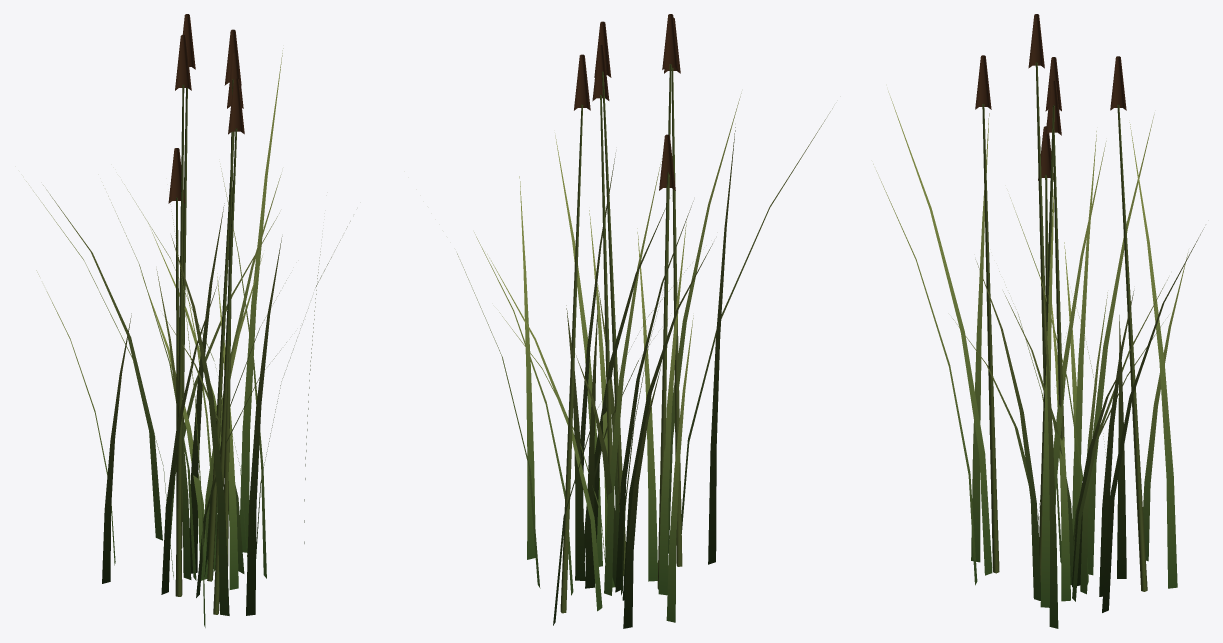
The model's file is reeds.glb.
The picture shows the model from 3 angles, left to right: view 1: azimuth 30°, elevation 25°; view 2: azimuth 150°, elevation 25°; view 3: azimuth 270°, elevation 25°; orthographic projection. The views are drawn at different scales.
Parts seen in each view (by area): view 1: reeds; view 2: reeds; view 3: reeds.
Part boxes in pixels (x1=…): reeds: x1=26, y1=14, x2=350, y2=627; reeds: x1=457, y1=14, x2=832, y2=628; reeds: x1=873, y1=14, x2=1204, y2=628.
Bounding box in the file's own units: 1.01 × 1.85 × 1.03.
